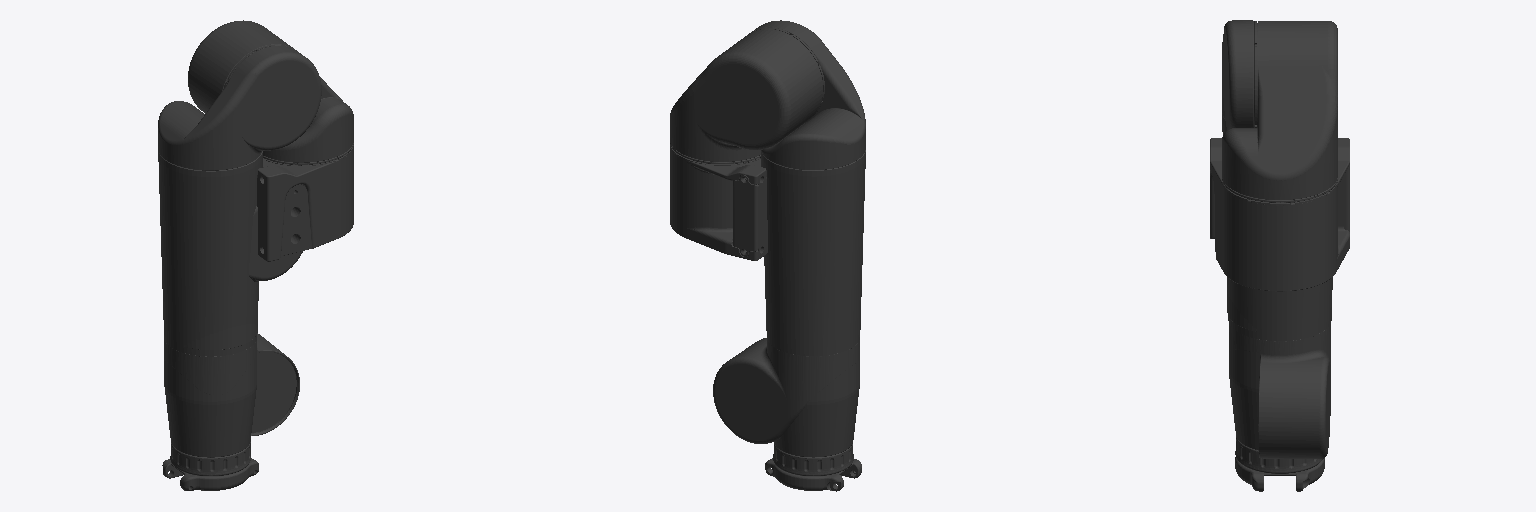
URDF robot description (bravo_7_example):
<?xml version="1.0" encoding="utf-8"?>
<!-- =================================================================================== -->
<!-- |    This document was autogenerated by xacro from bravo_7_example.urdf.xacro     | -->
<!-- |    EDITING THIS FILE BY HAND IS NOT RECOMMENDED                                 | -->
<!-- =================================================================================== -->
<robot name="bravo_7_example">
  <link name="base_link"/>
  <joint name="bravo_joint" type="fixed">
    <origin rpy="0 0 0" xyz="0 0 0"/>
    <parent link="base_link"/>
    <child link="bravo_base_link"/>
    <origin rpy="0 0 0" xyz="0 0 0"/>
  </joint>
  <material name="bravo_black">
    <color rgba="0.3 0.3 0.3 1"/>
  </material>
  <link name="bravo_base_link">
    <visual>
      <geometry>
        <mesh filename="package://reach_bravo_description/meshes/RS2-1019_base.stl"/>
      </geometry>
      <material name="bravo_black"/>
    </visual>
    <collision>
      <geometry>
        <box size="0.0725 0.1112 0.083"/>
      </geometry>
      <origin rpy="0 0 0" xyz="0.03625 00 0.0415"/>
    </collision>
    <collision>
      <geometry>
        <box size="0.050 0.080 0.060"/>
      </geometry>
      <origin rpy="0 0 0" xyz="0.025 -0.04556 0.03"/>
    </collision>
    <collision>
      <geometry>
        <cylinder length="0.083" radius="0.046"/>
      </geometry>
      <origin rpy="0 0 0" xyz="0.0665 0 0.0415"/>
    </collision>
  </link>
  <joint name="bravo_axis_g" type="revolute">
    <parent link="bravo_base_link"/>
    <origin rpy="0 0 3.14159" xyz="0.0665 0 0.08"/>
    <axis xyz="0 0 -1"/>
    <child link="bravo_1019_end_link"/>
    <limit effort="0" lower="0.0" upper="6.3" velocity="0"/>
  </joint>
  <link name="bravo_1019_end_link">
    <visual>
      <geometry>
        <mesh filename="package://reach_bravo_description/meshes/RS2-1019_end.stl"/>
      </geometry>
      <material name="bravo_black"/>
    </visual>
  </link>
  <joint name="bravo_f_base_joint" type="fixed">
    <parent link="bravo_1019_end_link"/>
    <origin rpy="0 0 0" xyz="0 0 0"/>
    <child link="bravo_1013_base_link"/>
  </joint>
  <link name="bravo_1013_base_link">
    <visual>
      <geometry>
        <mesh filename="package://reach_bravo_description/meshes/RS2-1013_base.stl"/>
      </geometry>
      <material name="bravo_black"/>
    </visual>
    <collision>
      <geometry>
        <cylinder length="0.030" radius="0.046"/>
      </geometry>
      <origin rpy="0 0 0" xyz="0.0 00 0.015"/>
    </collision>
    <collision>
      <geometry>
        <cylinder length="0.1" radius="0.046"/>
      </geometry>
      <origin rpy="1.5707 0 0 " xyz="0.048 00 0.0642"/>
    </collision>
  </link>
  <joint name="bravo_axis_f" type="revolute">
    <parent link="bravo_1013_base_link"/>
    <origin rpy="0 0 0" xyz="0.046 0 0.0642"/>
    <axis xyz="0 -1 0"/>
    <child link="bravo_1013_joint_link"/>
    <limit effort="0" lower="0.0" upper="3.2" velocity="0"/>
  </joint>
  <link name="bravo_1013_joint_link">
    <visual>
      <geometry>
        <mesh filename="package://reach_bravo_description/meshes/RS2-1013_end.stl"/>
      </geometry>
      <material name="bravo_black"/>
    </visual>
    <collision>
      <geometry>
        <cylinder length="0.03" radius="0.046"/>
      </geometry>
      <origin rpy="0 0 0" xyz="0.046 0 -0.03555"/>
    </collision>
  </link>
  <joint name="bravo_1013_end_joint" type="fixed">
    <parent link="bravo_1013_joint_link"/>
    <origin rpy="3.14159 0 3.14159" xyz="0.046 0 -0.05055"/>
    <child link="bravo_1013_end_link"/>
  </joint>
  <link name="bravo_1013_end_link"/>
  <joint name="bravo_e_base_joint" type="fixed">
    <parent link="bravo_1013_end_link"/>
    <origin rpy="0 0 0" xyz="0 0 0.182"/>
    <child link="bravo_1026_0_base_link"/>
  </joint>
  <link name="bravo_1026_0_base_link">
    <visual>
      <geometry>
        <mesh filename="package://reach_bravo_description/meshes/RS2-1026_0_base.stl"/>
      </geometry>
      <material name="bravo_black"/>
    </visual>
    <collision>
      <geometry>
        <cylinder length="0.03" radius="0.0408"/>
      </geometry>
      <origin rpy="0 0 0" xyz="0 00 0.015"/>
    </collision>
    <collision>
      <geometry>
        <cylinder length="0.0816" radius="0.0408"/>
      </geometry>
      <origin rpy="1.5707 0 0" xyz="0.0408 00 0.0578"/>
    </collision>
  </link>
  <joint name="bravo_axis_e" type="revolute">
    <parent link="bravo_1026_0_base_link"/>
    <origin rpy="0 0 0" xyz="0.042 0 0.0578"/>
    <axis xyz="0 -1 0"/>
    <child link="bravo_1026_0_joint_link"/>
    <limit effort="0" lower="0.0" upper="3.2" velocity="0"/>
  </joint>
  <link name="bravo_1026_0_joint_link">
    <visual>
      <geometry>
        <mesh filename="package://reach_bravo_description/meshes/RS2-1026_0_end.stl"/>
      </geometry>
      <material name="bravo_black"/>
    </visual>
    <collision>
      <geometry>
        <cylinder length="0.080" radius="0.0408"/>
      </geometry>
      <origin rpy="0 0 0" xyz="0.0408 0 -0.05385"/>
    </collision>
  </link>
  <joint name="bravo_1026_0_end_joint" type="fixed">
    <parent link="bravo_1026_0_joint_link"/>
    <origin rpy="3.14159 0 0" xyz="0.0408 0 -0.09385"/>
    <child link="bravo_1026_0_end_link"/>
  </joint>
  <link name="bravo_1026_0_end_link"/>
  <joint name="bravo_d_base_joint" type="fixed">
    <parent link="bravo_1026_0_end_link"/>
    <origin rpy="0 0 0" xyz="0 0 0"/>
    <child link="bravo_1026_1_base_link"/>
  </joint>
  <link name="bravo_1026_1_base_link">
        </link>
  <joint name="bravo_axis_d" type="revolute">
    <parent link="bravo_1026_1_base_link"/>
    <origin rpy="0 0 0" xyz="0 0 0.0005"/>
    <axis xyz="0 0 -1"/>
    <child link="bravo_1026_1_joint_link"/>
    <limit effort="0" lower="0" upper="6.2" velocity="0"/>
  </joint>
  <link name="bravo_1026_1_joint_link">
    <visual>
      <geometry>
        <mesh filename="package://reach_bravo_description/meshes/RS2-1026_1_end.stl"/>
      </geometry>
      <material name="bravo_black"/>
      <origin rpy="0 0 3.14159" xyz="0 0 0 "/>
    </visual>
    <collision>
      <geometry>
        <cylinder length="0.0056" radius="0.0408"/>
      </geometry>
      <origin rpy="0 0 3.14159" xyz="0 0 0.0028"/>
    </collision>
  </link>
  <joint name="bravo_1026_1_end_joint" type="fixed">
    <parent link="bravo_1026_1_joint_link"/>
    <origin rpy="0 0 3.14159" xyz="0 0 0.0056"/>
    <child link="bravo_1026_1_end_link"/>
  </joint>
  <link name="bravo_1026_1_end_link"/>
  <joint name="bravo_c_base_joint" type="fixed">
    <parent link="bravo_1026_1_end_link"/>
    <origin rpy="0 0 0" xyz="0 0 0.0"/>
    <child link="bravo_1023_0_base_link"/>
  </joint>
  <link name="bravo_1023_0_base_link">
    <visual>
      <geometry>
        <mesh filename="package://reach_bravo_description/meshes/RS2-1023_0_base.stl"/>
      </geometry>
      <material name="bravo_black"/>
    </visual>
    <collision>
      <geometry>
        <cylinder length="0.03" radius="0.0408"/>
      </geometry>
      <origin rpy="0 0 0" xyz="0 00 0.015"/>
    </collision>
    <collision>
      <geometry>
        <cylinder length="0.0816" radius="0.0408"/>
      </geometry>
      <origin rpy="1.5707 0 0" xyz="0.0408 00 0.0578"/>
    </collision>
  </link>
  <joint name="bravo_axis_c" type="revolute">
    <parent link="bravo_1023_0_base_link"/>
    <origin rpy="0 0 0" xyz="0.042 0 0.0578"/>
    <axis xyz="0 -1 0"/>
    <child link="bravo_1023_0_joint_link"/>
    <limit effort="0" lower="0.0" upper="3.2" velocity="0"/>
  </joint>
  <link name="bravo_1023_0_joint_link">
    <visual>
      <geometry>
        <mesh filename="package://reach_bravo_description/meshes/RS2-1023_0_end.stl"/>
      </geometry>
      <material name="bravo_black"/>
    </visual>
    <collision>
      <geometry>
        <cylinder length="0.080" radius="0.0408"/>
      </geometry>
      <origin rpy="0 0 0" xyz="0.0408 0 -0.05385"/>
    </collision>
  </link>
  <joint name="bravo_1023_0_end_joint" type="fixed">
    <parent link="bravo_1023_0_joint_link"/>
    <origin rpy="3.14159 0 0" xyz="0.0408 0 -0.09385"/>
    <child link="bravo_1023_0_end_link"/>
  </joint>
  <link name="bravo_1023_0_end_link"/>
  <joint name="bravo_b_base_joint" type="fixed">
    <parent link="bravo_1023_0_end_link"/>
    <origin rpy="0 0 0" xyz="0 0 0"/>
    <child link="bravo_1023_1_base_link"/>
  </joint>
  <link name="bravo_1023_1_base_link">
        </link>
  <joint name="bravo_axis_b" type="continuous">
    <parent link="bravo_1023_1_base_link"/>
    <origin rpy="0 0 0" xyz="0 0 0.0005"/>
    <axis xyz="0 0 -1"/>
    <child link="bravo_1023_1_joint_link"/>
    <!--            <limit effort="0" velocity="0" lower="0.0" upper="0.0" />-->
  </joint>
  <link name="bravo_1023_1_joint_link">
    <visual>
      <geometry>
        <mesh filename="package://reach_bravo_description/meshes/RS2-1023_1_end.stl"/>
      </geometry>
      <material name="bravo_black"/>
    </visual>
    <collision>
      <geometry>
        <cylinder length="0.0056" radius="0.0408"/>
      </geometry>
      <origin rpy="0 0 0" xyz="0 0 0.0028"/>
    </collision>
  </link>
  <joint name="bravo_1023_1_end_joint" type="fixed">
    <parent link="bravo_1023_1_joint_link"/>
    <origin rpy="0 0 0" xyz="0 0 0.0056"/>
    <child link="bravo_1023_1_end_link"/>
  </joint>
  <link name="bravo_1023_1_end_link"/>
  <joint name="bravo_a_base_joint" type="fixed">
    <parent link="bravo_1023_1_end_link"/>
    <origin rpy="0 0 0" xyz="0 0 0"/>
    <child link="bravo_1028_base_link"/>
  </joint>
  <link name="bravo_1028_base_link">
    <visual>
      <geometry>
        <mesh filename="package://reach_bravo_description/meshes/RS2-1028.stl"/>
      </geometry>
      <material name="bravo_black"/>
    </visual>
    <collision>
      <geometry>
        <cylinder length="0.120" radius="0.0408"/>
      </geometry>
      <origin rpy="0 0 0" xyz="0 0 0.06"/>
    </collision>
  </link>
  <joint name="bravo_1028_end_joint" type="fixed">
    <parent link="bravo_1028_base_link"/>
    <origin rpy="-1.5707 -1.5707 0" xyz="0 0 0.120"/>
    <child link="bravo_1028_end_link"/>
  </joint>
  <link name="bravo_1028_end_link"/>
  <joint name="bravo_jaws_joint" type="fixed">
    <origin rpy="0 0 0" xyz=" 0 0 0.0"/>
    <parent link="bravo_1028_end_link"/>
    <child link="bravo_jaws_base_link"/>
  </joint>
  <link name="bravo_jaws_base_link">
    <!--        <visual>-->
    <!--            <geometry>-->
    <!--                <mesh filename="package://reach_bravo_description/meshes/end_effectors/RS2-257.stl"/>-->
    <!--            </geometry>-->
    <!--            <material name="bravo_jaws_black"/>-->
    <!--            </visual>-->
  </link>
  <link name="bravo_push_rod"/>
  <joint name="bravo_axis_a" type="prismatic">
    <origin rpy="0 0 0" xyz="0 0 0.009"/>
    <parent link="bravo_jaws_base_link"/>
    <child link="bravo_push_rod"/>
    <axis xyz="0 0 1"/>
    <limit effort="10" lower="0" upper="0.035" velocity="10"/>
  </joint>
  <link name="bravo_1030_base_link">
    <visual>
      <geometry>
        <mesh filename="package://reach_bravo_description/meshes/RS2-1030.stl"/>
      </geometry>
      <material name="bravo_black"/>
    </visual>
    <collision>
      <geometry>
        <cylinder length="0.03033333" radius="0.046"/>
      </geometry>
      <origin rpy="0 0 0" xyz="0 0 0.01516666"/>
    </collision>
    <collision>
      <geometry>
        <cylinder length="0.03033333" radius="0.045"/>
      </geometry>
      <origin rpy="0 0 0" xyz="0 0 0.0455"/>
    </collision>
    <collision>
      <geometry>
        <cylinder length="0.03033333" radius="0.044"/>
      </geometry>
      <origin rpy="0 0 0" xyz="0 0 0.075833333"/>
    </collision>
    <collision>
      <geometry>
        <cylinder length="0.03033333" radius="0.043"/>
      </geometry>
      <origin rpy="0 0 0" xyz="0 0 0.1061666666"/>
    </collision>
    <collision>
      <geometry>
        <cylinder length="0.03033333" radius="0.042"/>
      </geometry>
      <origin rpy="0 0 0" xyz="0 0 0.1365"/>
    </collision>
    <collision>
      <geometry>
        <cylinder length="0.03033333" radius="0.041"/>
      </geometry>
      <origin rpy="0 0 0" xyz="0 0 0.1668333"/>
    </collision>
  </link>
  <joint name="bravo_1030_base_joint" type="fixed">
    <parent link="bravo_1013_end_link"/>
    <child link="bravo_1030_base_link"/>
    <origin rpy="0 0 0" xyz="0 0 0"/>
  </joint>
  <material name="bravo_finger_jaws_black">
    <color rgba="0.3 0.3 0.3 1"/>
  </material>
  <joint name="bravo_finger_jaws_joint" type="fixed">
    <origin rpy="0 0 0" xyz="0 0 0"/>
    <parent link="bravo_jaws_base_link"/>
    <child link="bravo_finger_jaws_base_link"/>
    <origin rpy="0 0 0" xyz="0 0 0"/>
  </joint>
  <link name="bravo_finger_jaws_base_link">
    <visual>
      <geometry>
        <mesh filename="package://reach_bravo_description/meshes/end_effectors/RS2-257.stl"/>
      </geometry>
      <material name="bravo_finger_jaws_black"/>
    </visual>
    <collision>
      <geometry>
        <cylinder length="0.02" radius="0.05"/>
      </geometry>
      <origin rpy="0 1.5707 0" xyz="0.01 0 0.00"/>
    </collision>
  </link>
  <link name="bravo_finger_jaws_rs2_300_link">
    <visual>
      <geometry>
        <mesh filename="package://reach_bravo_description/meshes/end_effectors/RS2-300.stl"/>
      </geometry>
      <material name="bravo_finger_jaws_black"/>
    </visual>
    <collision>
      <geometry>
        <box size="0.14 0.04 0.045"/>
      </geometry>
      <origin rpy="0 0 0.35" xyz="0.07 0.025 0.00"/>
    </collision>
  </link>
  <joint name="bravo_finger_jaws_rs2_300_joint" type="revolute">
    <origin rpy="0 0 0" xyz="0.0097 -0.033 0"/>
    <parent link="bravo_finger_jaws_base_link"/>
    <child link="bravo_finger_jaws_rs2_300_link"/>
    <axis xyz="0 0 -1"/>
    <limit effort="10" lower="0" upper="1.0" velocity="10"/>
    <mimic joint="bravo_axis_a" multiplier="18" offset="0"/>
  </joint>
  <link name="bravo_finger_jaws_rs2_301_link">
    <visual>
      <geometry>
        <mesh filename="package://reach_bravo_description/meshes/end_effectors/RS2-301.stl"/>
      </geometry>
      <material name="bravo_finger_jaws_black"/>
    </visual>
    <collision>
      <geometry>
        <box size="0.14 0.04 0.045"/>
      </geometry>
      <origin rpy="0 0 -0.35" xyz="0.07 -0.025 0.00"/>
    </collision>
  </link>
  <joint name="bravo_finger_jaws_rs2_301_joint" type="revolute">
    <origin rpy="0 0 0" xyz="0.0097 0.033 0"/>
    <parent link="bravo_finger_jaws_base_link"/>
    <child link="bravo_finger_jaws_rs2_301_link"/>
    <axis xyz="0 0 1"/>
    <limit effort="10" lower="0" upper="1.0" velocity="10"/>
    <mimic joint="bravo_finger_jaws_rs2_300_joint" multiplier="1" offset="0"/>
  </joint>
</robot>

--- Render facts (derived) ---
3 views of the same robot in one strip: view 1: azimuth 30°, elevation 25°; view 2: azimuth 150°, elevation 25°; view 3: azimuth 270°, elevation 25° (orthographic).
Robot: bravo_7_example — 26 links, 25 joints (7 revolute, 1 continuous, 1 prismatic, 16 fixed); root link base_link; default pose: every joint at zero.
Visible links, largest first — view 1: bravo_1030_base_link, bravo_1013_joint_link, bravo_1028_base_link, bravo_base_link, bravo_1013_base_link, bravo_1026_0_base_link, bravo_1023_0_joint_link, bravo_finger_jaws_base_link; view 2: bravo_1030_base_link, bravo_1013_base_link, bravo_base_link, bravo_1026_0_base_link, bravo_1013_joint_link, bravo_1028_base_link, bravo_finger_jaws_base_link; view 3: bravo_1013_base_link, bravo_base_link, bravo_1026_0_base_link, bravo_1030_base_link, bravo_1028_base_link, bravo_1013_joint_link, bravo_finger_jaws_base_link, bravo_1019_end_link.
Link boxes in pixels (left/top/right/bottom): bravo_1030_base_link: left=158, top=151, right=262, bottom=356; bravo_1013_joint_link: left=158, top=45, right=321, bottom=170; bravo_1028_base_link: left=164, top=341, right=256, bottom=475; bravo_base_link: left=257, top=147, right=353, bottom=261; bravo_1013_base_link: left=188, top=20, right=353, bottom=162; bravo_1026_0_base_link: left=164, top=333, right=299, bottom=435; bravo_1023_0_joint_link: left=184, top=206, right=302, bottom=349; bravo_finger_jaws_base_link: left=162, top=458, right=258, bottom=490; bravo_1030_base_link: left=761, top=150, right=865, bottom=355; bravo_1013_base_link: left=670, top=29, right=822, bottom=161; bravo_base_link: left=670, top=148, right=767, bottom=260; bravo_1026_0_base_link: left=713, top=338, right=859, bottom=443; bravo_1013_joint_link: left=749, top=20, right=865, bottom=169; bravo_1028_base_link: left=767, top=340, right=859, bottom=475; bravo_finger_jaws_base_link: left=765, top=458, right=861, bottom=491; bravo_1013_base_link: left=1222, top=21, right=1337, bottom=199; bravo_base_link: left=1210, top=138, right=1349, bottom=291; bravo_1026_0_base_link: left=1229, top=326, right=1330, bottom=458; bravo_1030_base_link: left=1222, top=113, right=1332, bottom=340; bravo_1028_base_link: left=1229, top=324, right=1330, bottom=473; bravo_1013_joint_link: left=1222, top=20, right=1257, bottom=129; bravo_finger_jaws_base_link: left=1235, top=457, right=1324, bottom=491; bravo_1019_end_link: left=1222, top=178, right=1337, bottom=205.
Bounding box of the posed robot: 0.184 × 0.1112 × 0.4136 m (x, y, z).
10 mesh visuals loaded from 15 distinct referenced files (10 binary STL); not drawn: 5 (reference not matched to a file when rendering).